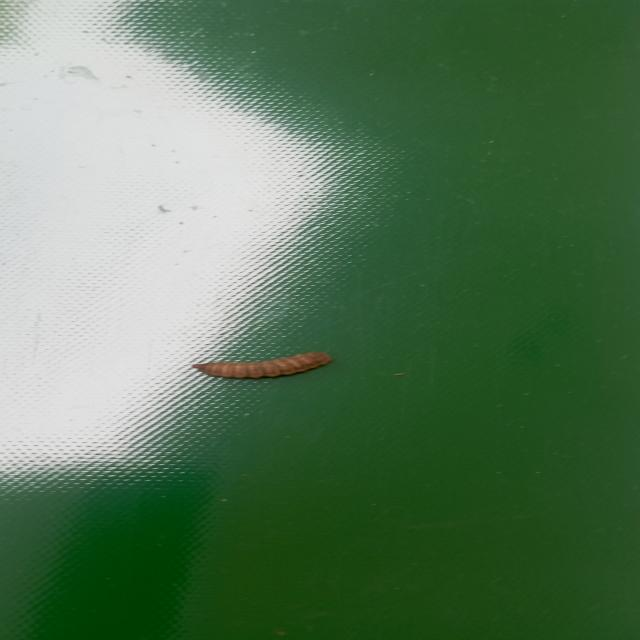Maggot: (195, 353, 334, 382)
